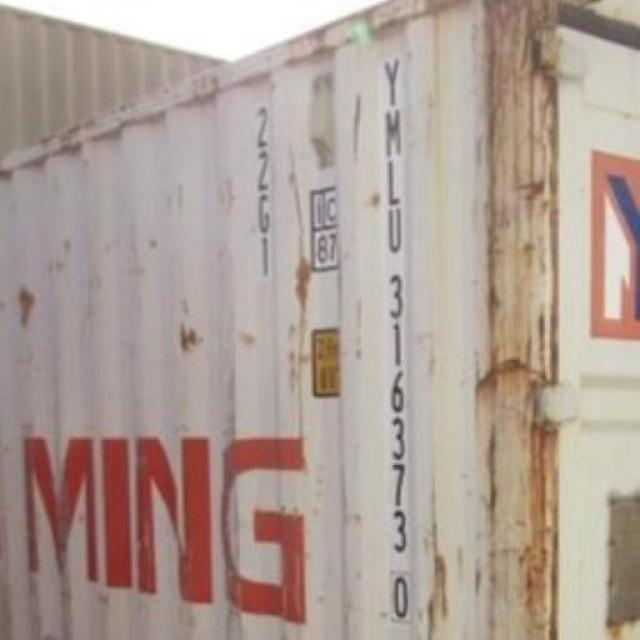ISO: (250, 102, 278, 276)
container_number: (366, 49, 422, 629)
